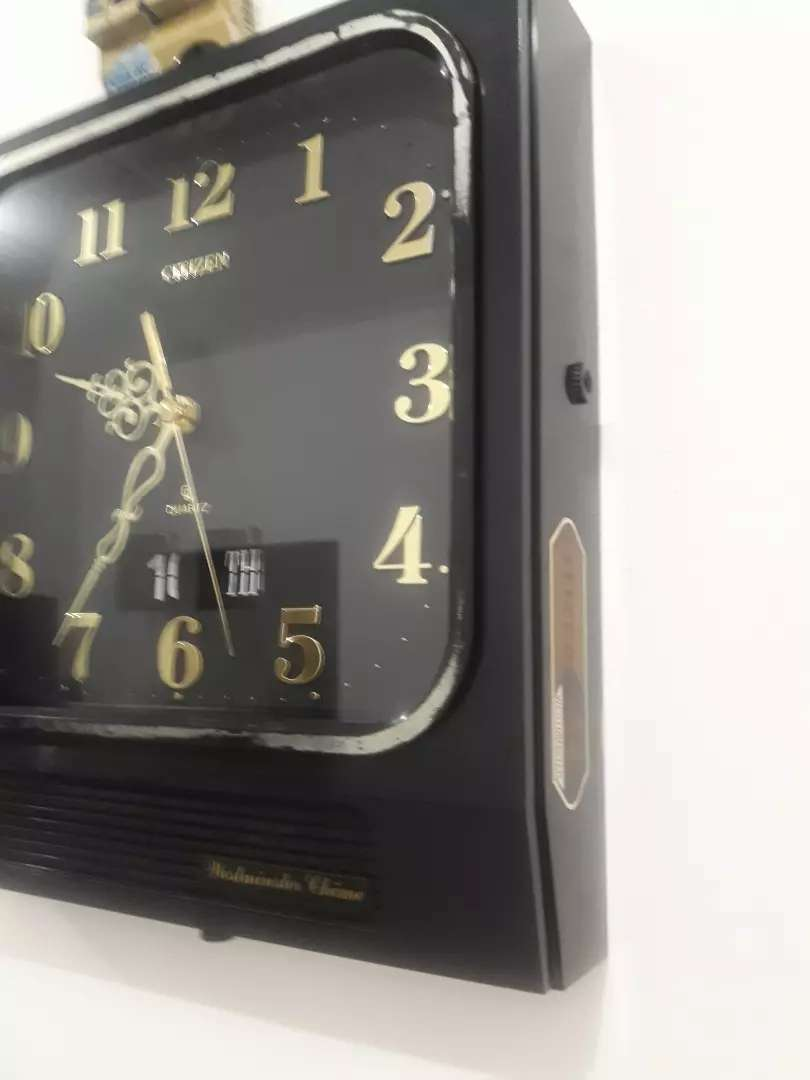jam dinding: (6, 96, 611, 974)
